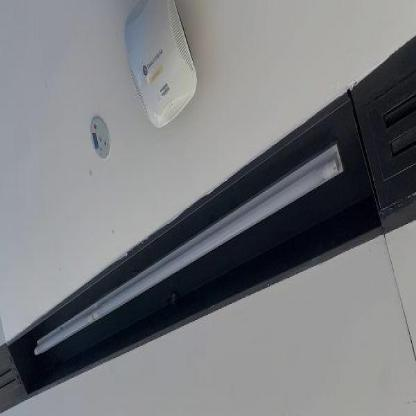light_off: (29, 124, 349, 362)
